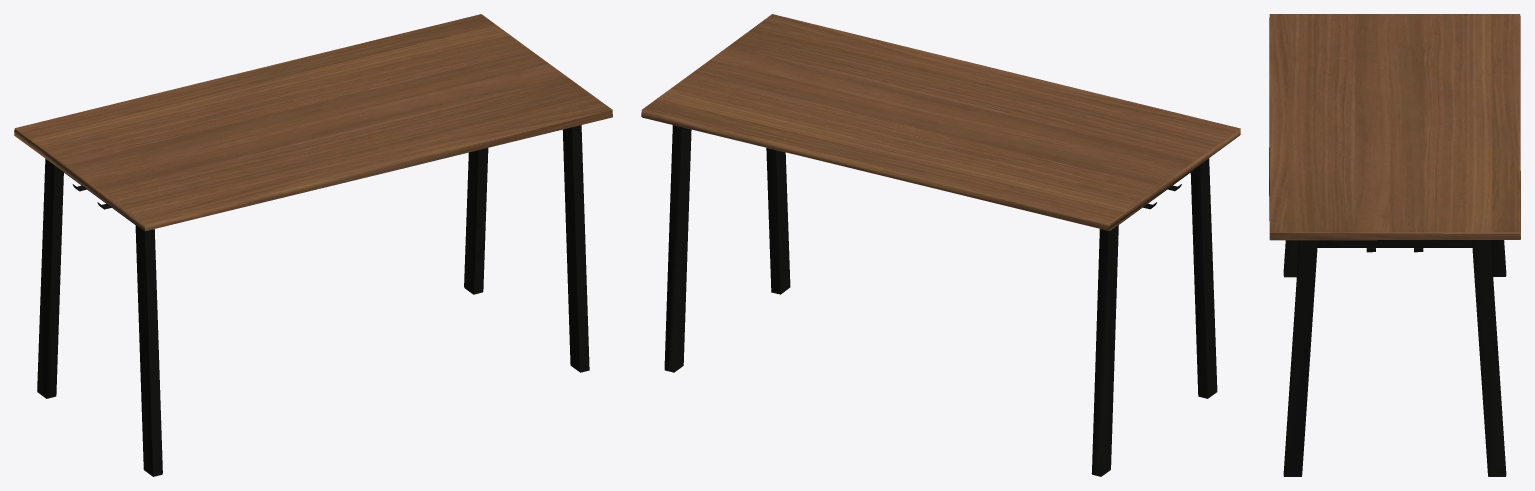
The model's file is 93 - MITTZON - 會議桌, 實木貼皮, 胡桃木黑色, 140x68x75 公分 IKEA 線上購物.glb.
The picture shows the model from 3 angles, left to right: view 1: azimuth 30°, elevation 25°; view 2: azimuth 150°, elevation 25°; view 3: azimuth 270°, elevation 25°; orthographic projection. The views are drawn at different scales.
Parts seen in each view (by area): view 1: Mesh_0; view 2: Mesh_0; view 3: Mesh_0.
Boxes of the visible parts, x1,y1,x2,y2 form: Mesh_0: (14, 14, 612, 476); Mesh_0: (641, 14, 1240, 476); Mesh_0: (1269, 14, 1520, 476).
Size of the model in its own units: 1.4 by 0.7503 by 0.6798.
Materials: 1 (1 with a texture image).
